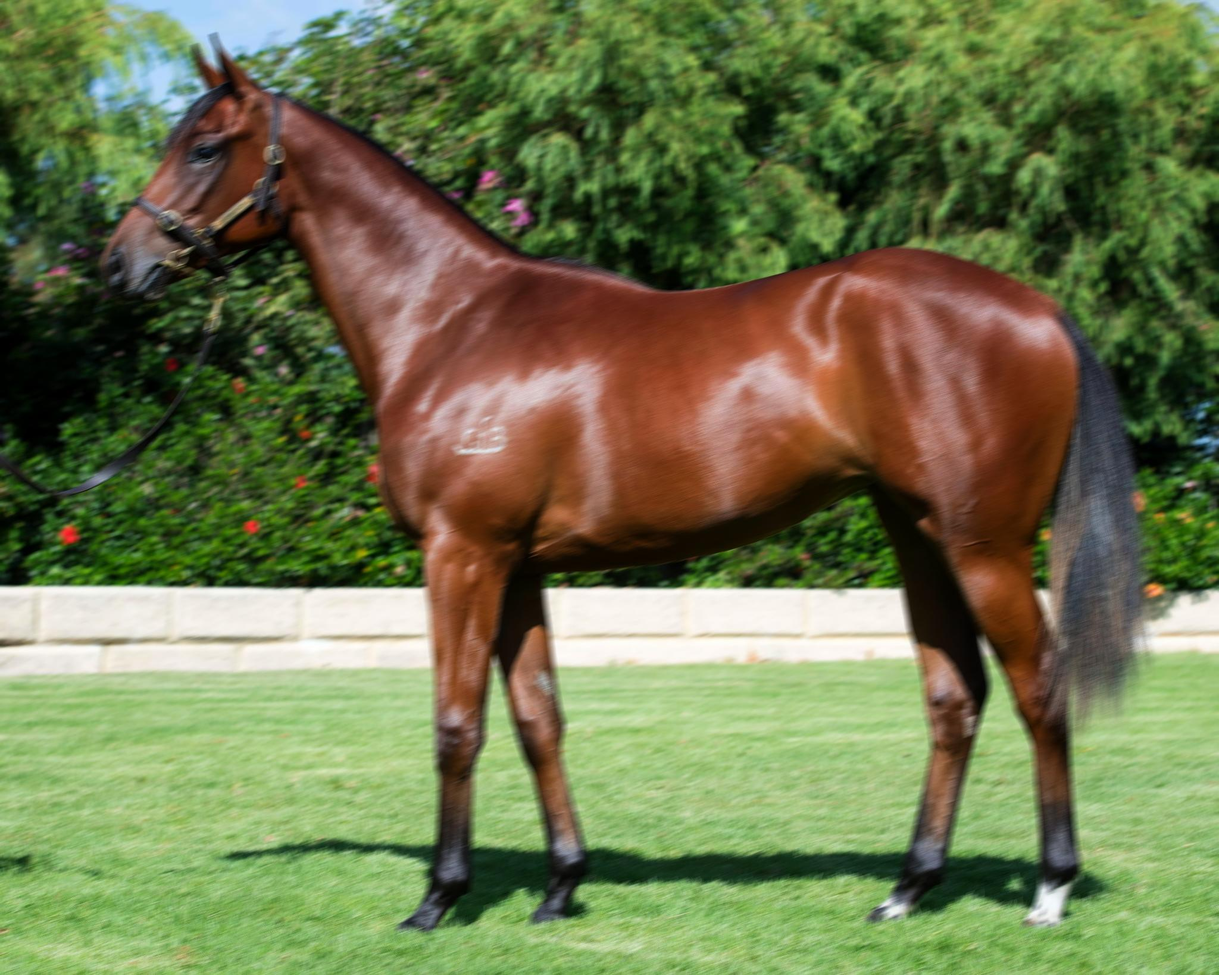horse: (85, 25, 1163, 942)
